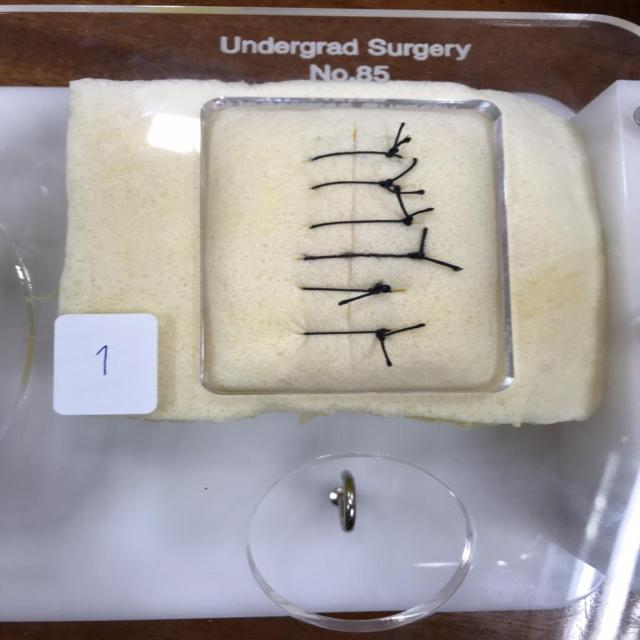knot: (369, 285, 390, 294), (376, 328, 390, 341), (378, 179, 394, 187), (387, 147, 398, 158), (407, 252, 424, 259), (402, 217, 412, 225)
leftover: (381, 156, 417, 186), (416, 253, 463, 272), (335, 289, 381, 307), (375, 322, 427, 337), (374, 328, 393, 368), (393, 184, 412, 223), (378, 181, 427, 195), (400, 206, 436, 223), (389, 120, 406, 156), (385, 135, 412, 155), (416, 225, 429, 258), (374, 281, 388, 293)
stitch: (308, 150, 404, 163), (307, 219, 413, 230), (308, 180, 401, 191), (300, 253, 426, 261), (300, 328, 393, 336), (299, 286, 395, 293)
wound: (346, 123, 361, 365)
